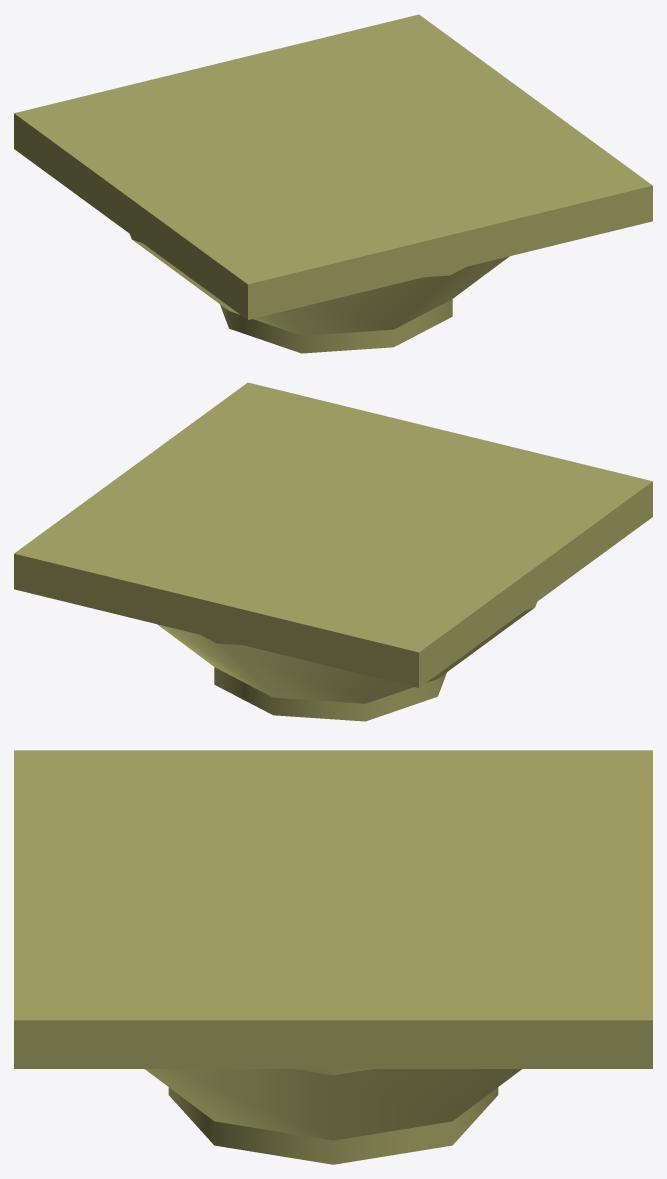
The model's file is Rejilla.fbx.
The picture shows the model from 3 angles, top to bottom: view 1: azimuth 30°, elevation 25°; view 2: azimuth 150°, elevation 25°; view 3: azimuth 270°, elevation 25°; orthographic projection. The views are drawn at different scales.
Parts seen in each view (by area): view 1: Rejilla; view 2: Rejilla; view 3: Rejilla.
Part boxes in pixels (bbox=[...]): Rejilla: bbox=[14, 14, 652, 353]; Rejilla: bbox=[14, 382, 652, 721]; Rejilla: bbox=[14, 750, 652, 1164].
Size of the model in its own units: 0.2 by 0.0725 by 0.2.
